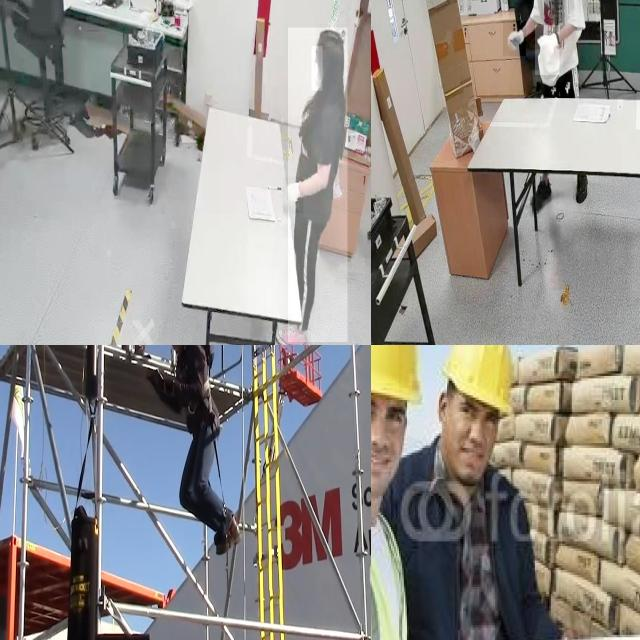Harness: (172, 345, 222, 443)
No_Ear-Protection: (437, 384, 450, 432)
No_Glasses: (456, 385, 504, 440), (371, 385, 409, 432)
face_mask: (312, 46, 322, 91)
hand_glove: (535, 25, 560, 76), (503, 21, 527, 57), (283, 177, 304, 214)
head_nohelmet: (316, 26, 344, 49)
person: (288, 27, 348, 343), (509, 0, 584, 115)
shoes: (528, 175, 554, 213), (276, 318, 309, 345)
